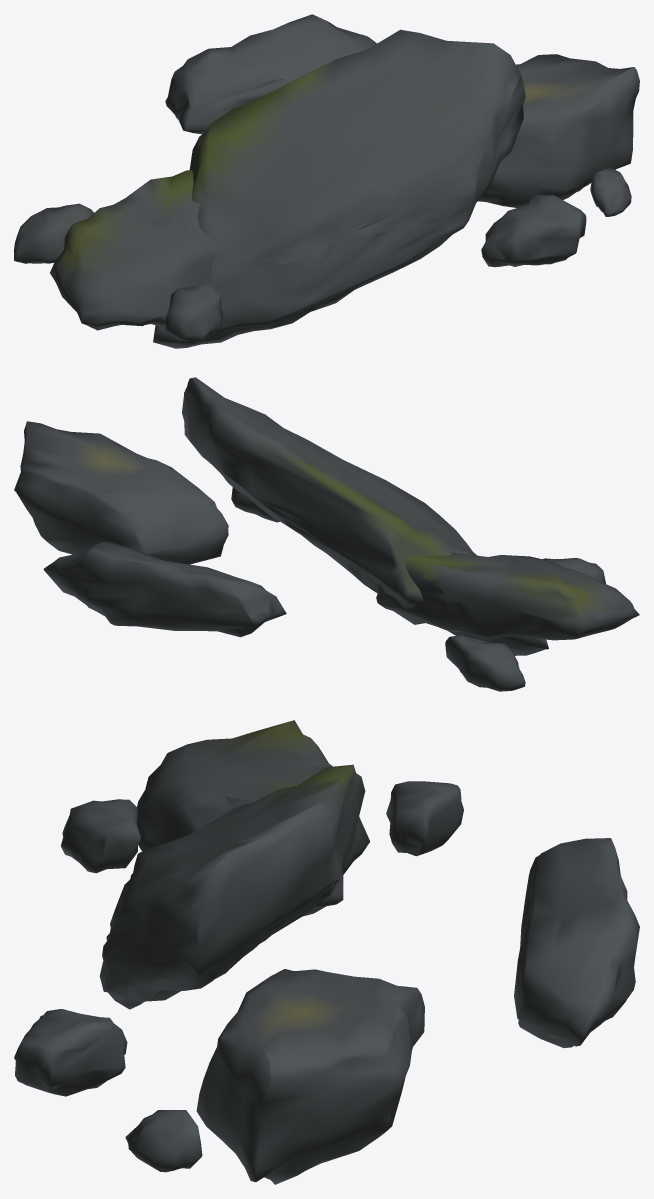
The model's file is bedrock-cdcd3839.glb.
3 views of the same model, one above another, from view 1: azimuth 30°, elevation 25°; view 2: azimuth 150°, elevation 25°; view 3: azimuth 270°, elevation 25° (orthographic). The views are drawn at different scales.
Parts seen in each view (by area): view 1: Low bedrock 08; view 2: Low bedrock 08; view 3: Low bedrock 08.
Part boxes in pixels (x1,y1,x2,y2): Low bedrock 08: (14, 14, 639, 348); Low bedrock 08: (14, 377, 639, 691); Low bedrock 08: (14, 720, 639, 1184).
Bounding box in the file's own units: 4.93 × 1.76 × 3.17.
